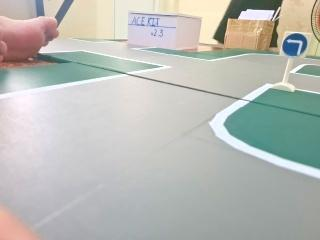left: (276, 27, 316, 62)
